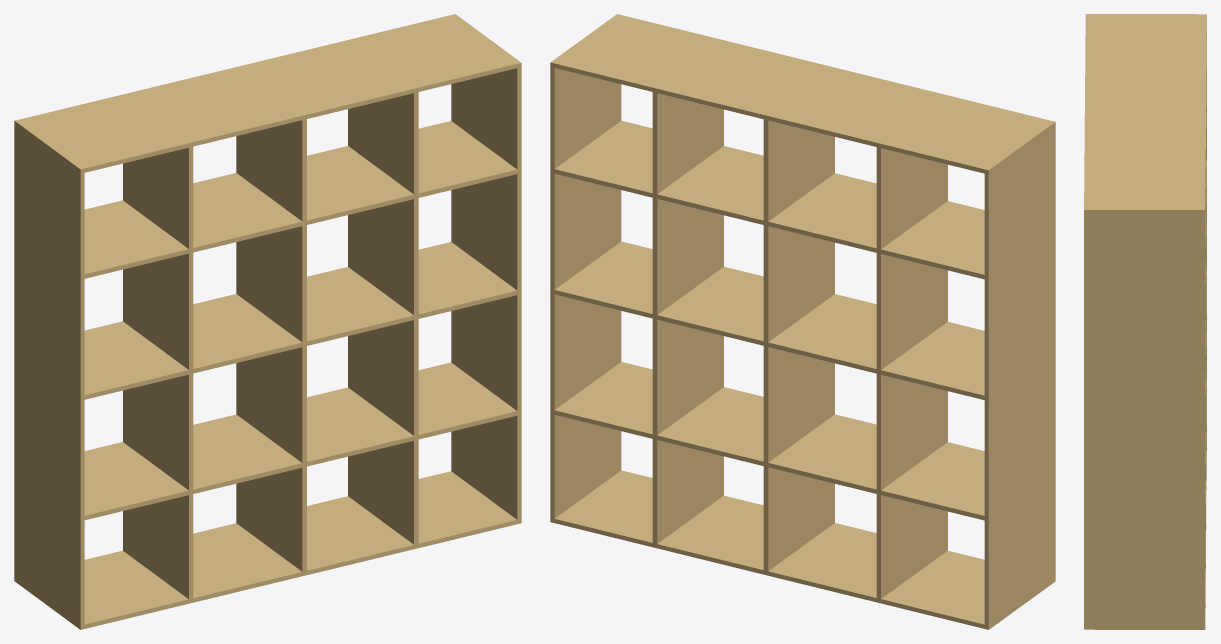
The model's file is IKEA-Expedit_Bookcase-3D.obj.
3 renders of one model, left to right at view 1: azimuth 30°, elevation 25°; view 2: azimuth 150°, elevation 25°; view 3: azimuth 270°, elevation 25°, orthographic. The views are drawn at different scales.
Visible parts, largest first — view 1: Layer_0; view 2: Layer_0; view 3: Layer_0.
Part boxes in pixels (x1,y1,x2,y2): Layer_0: (14,14,521,629); Layer_0: (550,14,1055,629); Layer_0: (1084,14,1206,629).
Size of the model in its own units: 1491 by 1490 by 395.
